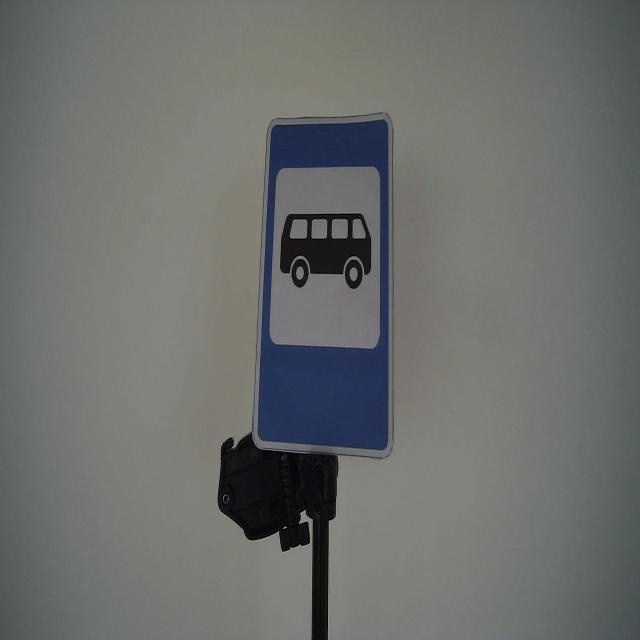bus_stop: (250, 109, 398, 465)
